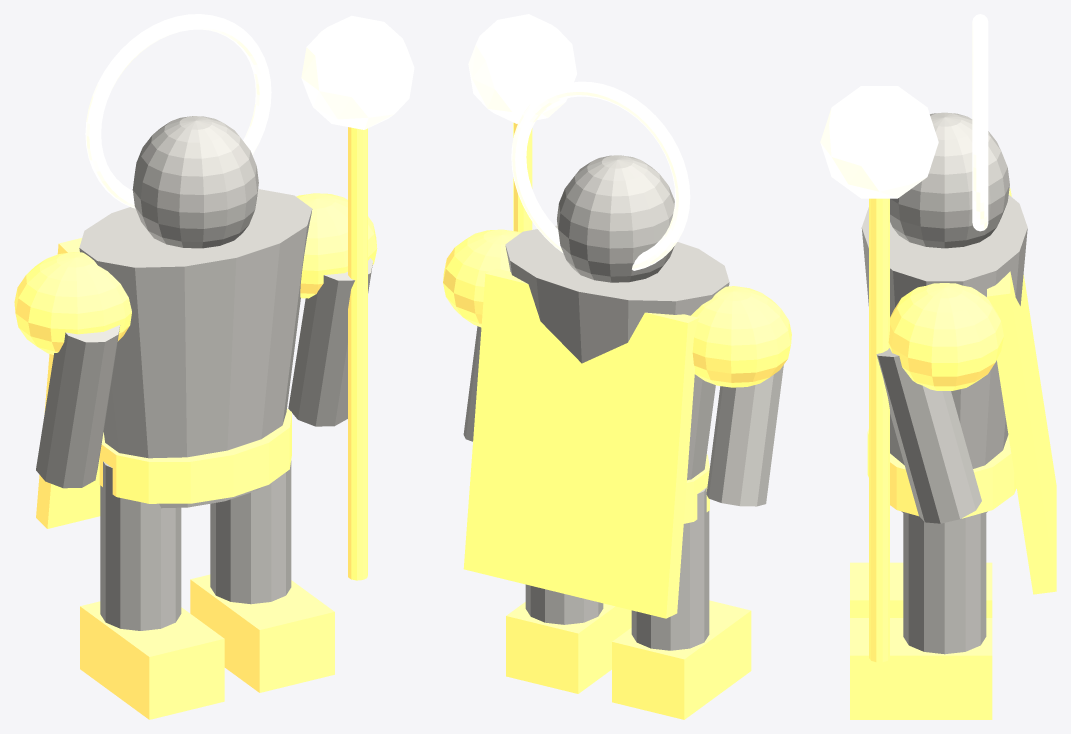
Rendered from hero_cleric.glb.
The picture shows the model from 3 angles, left to right: view 1: azimuth 30°, elevation 25°; view 2: azimuth 150°, elevation 25°; view 3: azimuth 270°, elevation 25°; orthographic projection. The views are drawn at different scales.
Parts seen in each view (by area): view 1: Cone, Sphere.002, Cube, Cube.001, Cylinder, Icosphere, Cylinder.003, Cylinder.001, Cylinder.002, Cylinder.005, Sphere, Cylinder.004 (+3 smaller); view 2: Cube.002, Cone, Sphere.002, Cube, Icosphere, Sphere, Cube.001, Cylinder.003, Torus, Cylinder, Sphere.001, Cylinder.001 (+3 smaller); view 3: Cone, Cube.002, Cylinder.001, Cube.001, Icosphere, Sphere.001, Cylinder.004, Cylinder.005, Sphere.002, Torus, Cylinder.002, Cube.
Part boxes in pixels (x1,y1,x2,y2): Cone: (79, 189, 312, 508); Sphere.002: (132, 116, 258, 248); Cube: (80, 601, 224, 719); Cube.001: (190, 574, 334, 692); Cylinder: (100, 461, 181, 630); Icosphere: (301, 15, 414, 129); Cylinder.003: (36, 325, 120, 488); Cylinder.001: (210, 461, 291, 604); Cylinder.002: (99, 408, 291, 503); Cylinder.005: (348, 127, 367, 580); Sphere: (14, 252, 131, 354); Cylinder.004: (288, 258, 372, 426); Cube.002: (463, 268, 698, 618); Cone: (505, 225, 729, 480); Sphere.002: (557, 155, 674, 282); Cube: (612, 600, 751, 719); Icosphere: (468, 14, 576, 123); Sphere: (691, 286, 791, 387); Cube.001: (506, 602, 631, 693); Cylinder.003: (706, 365, 783, 506); Torus: (511, 81, 690, 270); Cylinder: (631, 487, 709, 650); Sphere.001: (443, 229, 520, 327); Cylinder.001: (525, 584, 603, 624); Cone: (861, 195, 1027, 512); Cube.002: (987, 188, 1056, 594); Cylinder.001: (903, 512, 986, 654); Cube.001: (850, 618, 992, 719); Icosphere: (820, 86, 938, 198); Sphere.001: (888, 283, 1003, 390); Cylinder.004: (876, 348, 981, 523); Cylinder.005: (869, 198, 889, 662); Sphere.002: (890, 112, 1009, 248); Torus: (972, 14, 988, 231); Cylinder.002: (867, 429, 1016, 518); Cube: (850, 562, 992, 617).
Size of the model in its own units: 1.4 by 2.42 by 0.7978.
